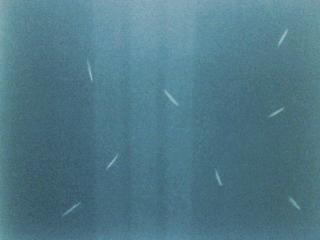scratch: (81, 55, 99, 86), (161, 86, 182, 110), (61, 199, 82, 218), (276, 25, 290, 50), (285, 193, 302, 213), (104, 150, 120, 171), (265, 104, 284, 120), (212, 166, 224, 188)
